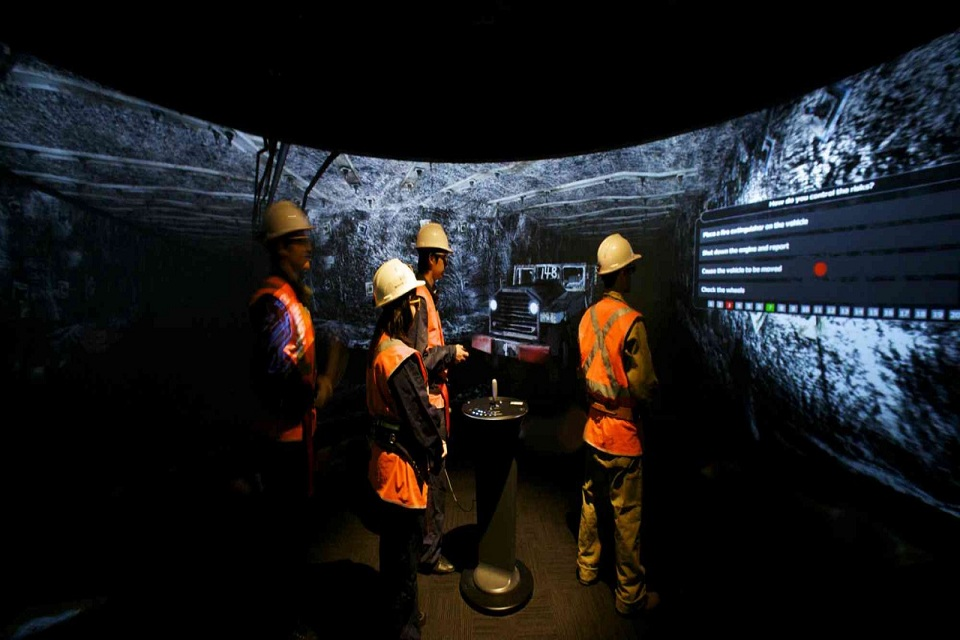helmet: (253, 193, 331, 290), (360, 256, 440, 340), (579, 228, 645, 297), (413, 221, 466, 286)
